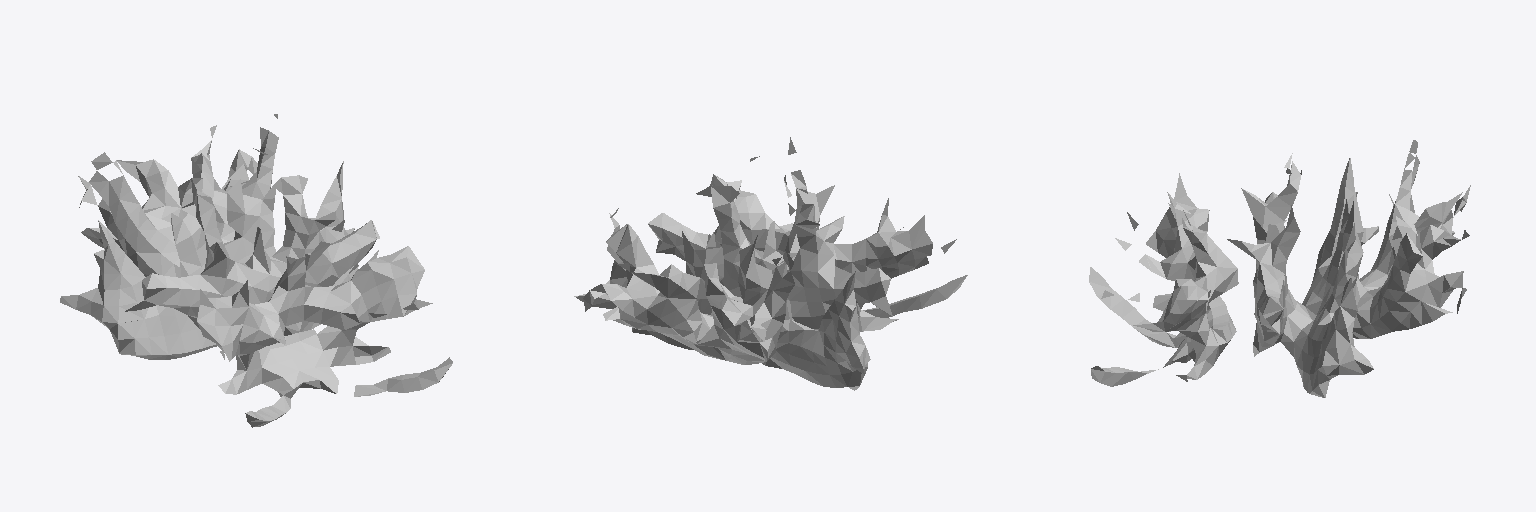
Rendered from usnm_292-150k11.obj.
3 renders of one model, left to right at view 1: azimuth 30°, elevation 25°; view 2: azimuth 150°, elevation 25°; view 3: azimuth 270°, elevation 25°, orthographic.
Size of the model in its own units: 0.1511 by 0.1026 by 0.1706.